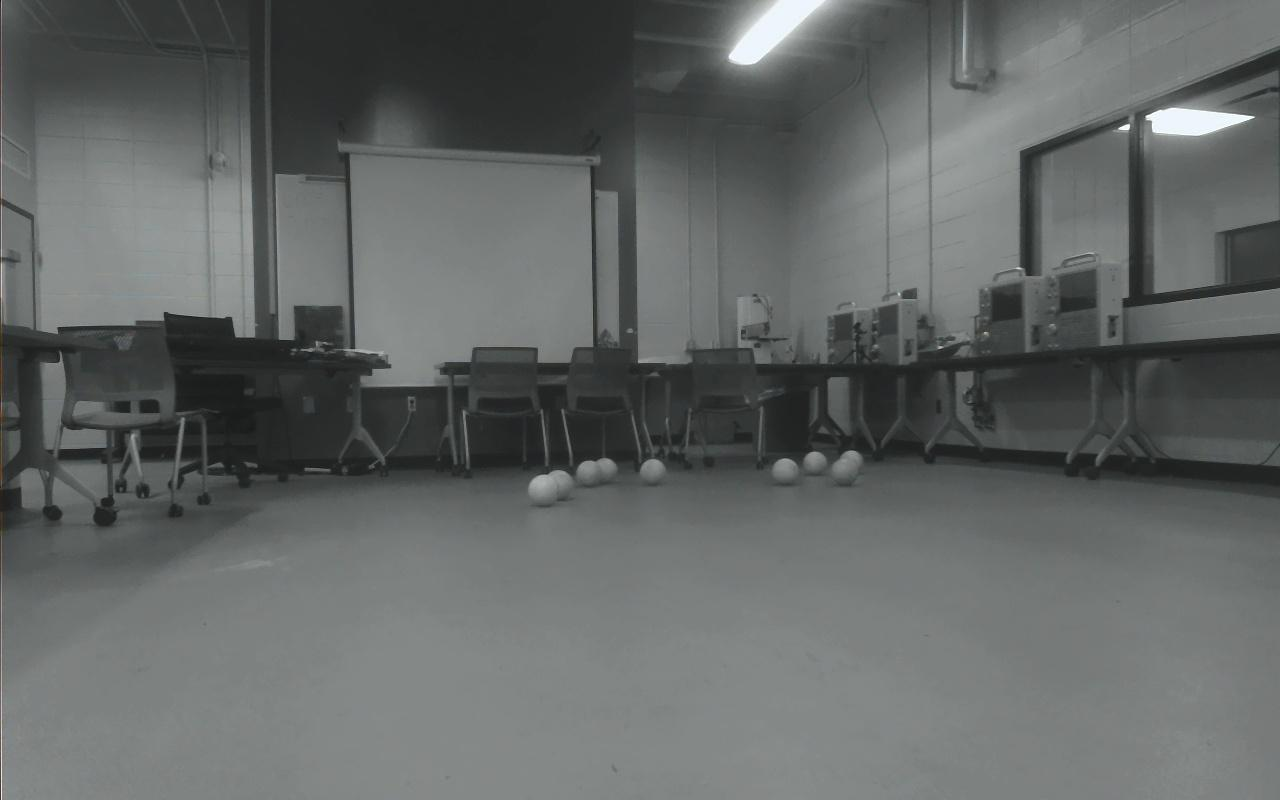Fuel: (527, 474, 559, 507), (829, 457, 859, 486), (547, 470, 573, 501), (772, 457, 800, 485), (639, 458, 666, 485), (575, 460, 600, 486), (838, 450, 864, 474), (803, 451, 827, 476), (594, 458, 617, 483)
